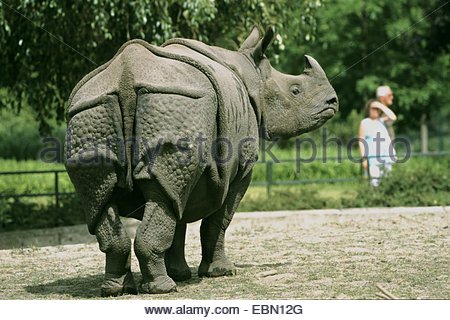rhinoceros: (62, 25, 341, 299)
